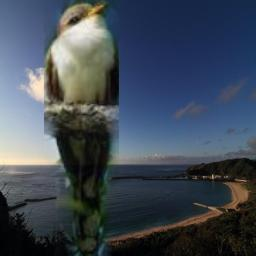Cuckoo: (44, 0, 119, 256)
